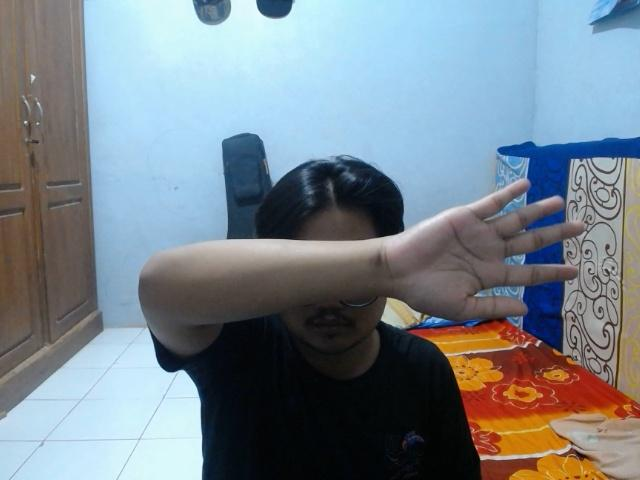Release: (370, 173, 589, 327)
